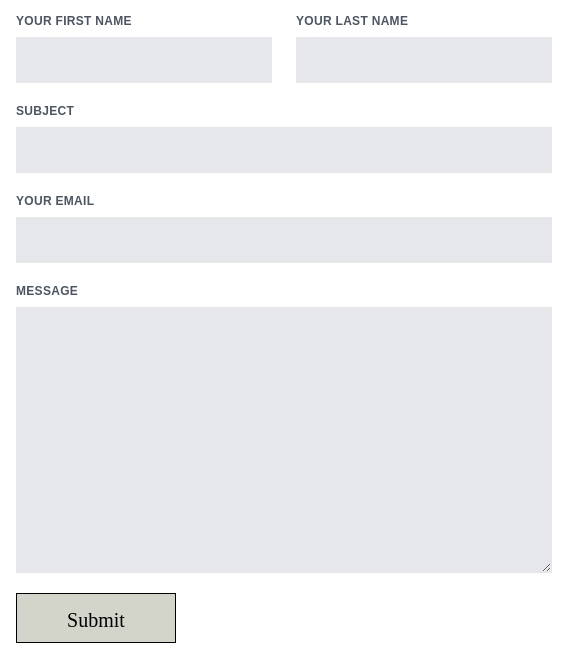
Test: MessageForm › failure: shows the error alert and keeps the typed values
This screenshot has width=569, height=660.
Type "Ada" into the field labelled "Your First Name" at (144, 60), box [16, 37, 272, 83]
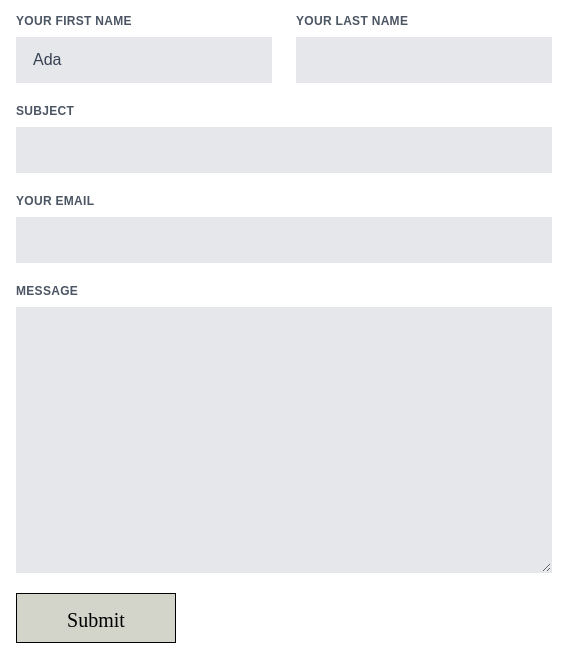
Type "Lovelace" into the field labelled "Your Last Name" at (424, 60), box [296, 37, 552, 83]
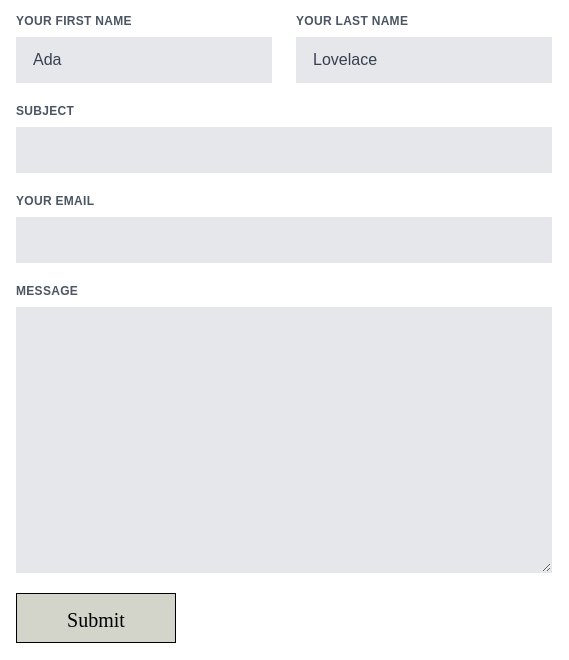
Type "Hello" into the field labelled "Subject" at (284, 150), box [16, 127, 552, 173]
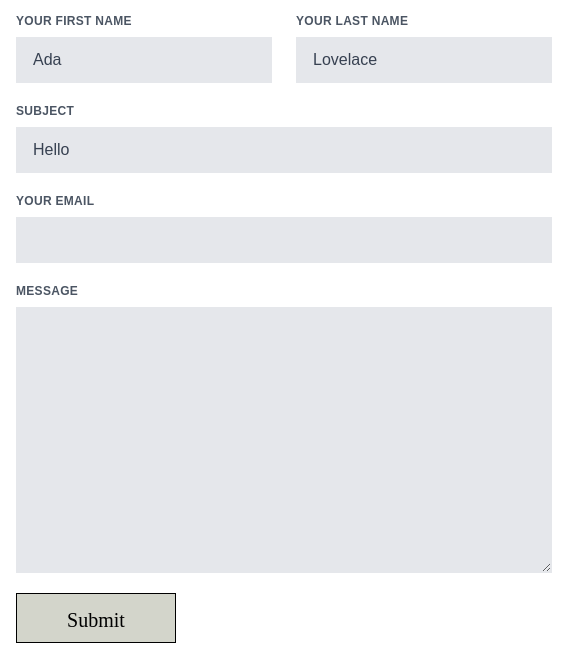
Type "ada@example.com" into the field labelled "Your Email" at (284, 240), box [16, 217, 552, 263]
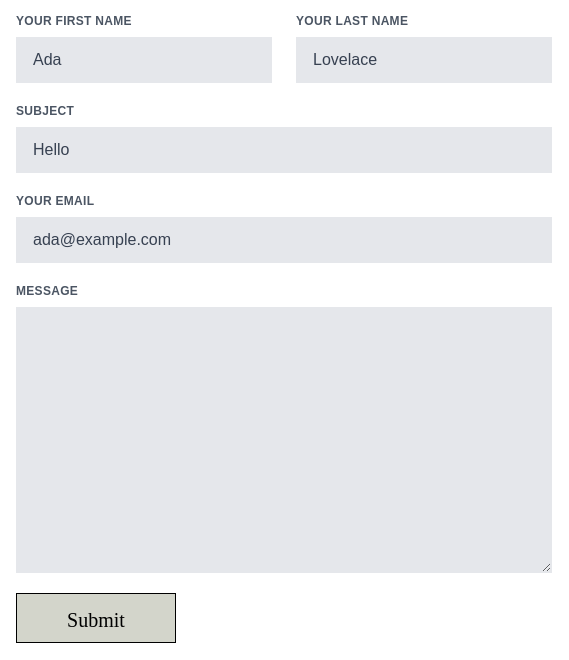
Type "This message is long enough." into the text box labelled "Message" at (284, 440), box [16, 307, 552, 573]
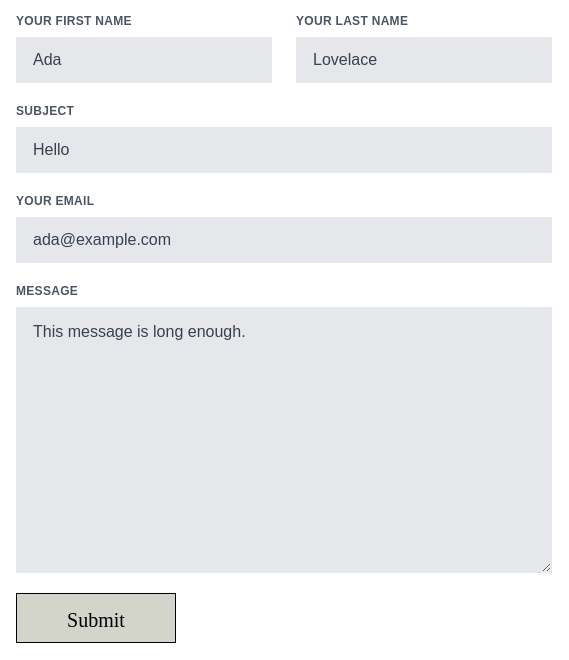
Click the button "Submit" at (96, 618), box [16, 593, 176, 643]
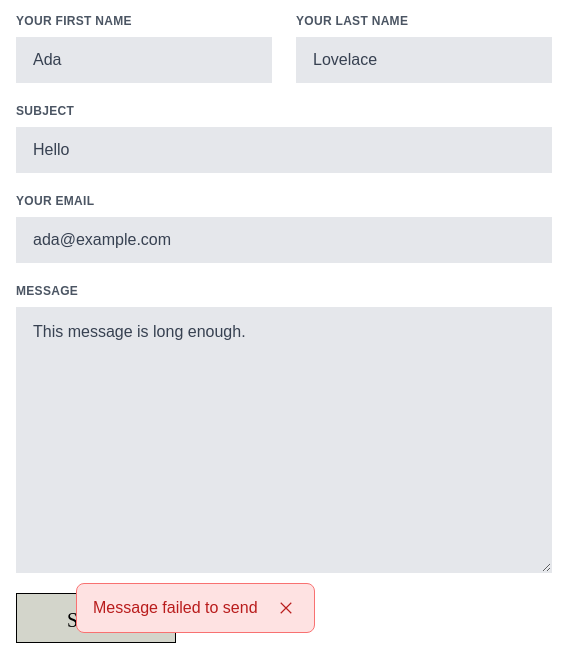
Expected: the text "Message failed to send" is shown, [93, 596, 258, 620]
